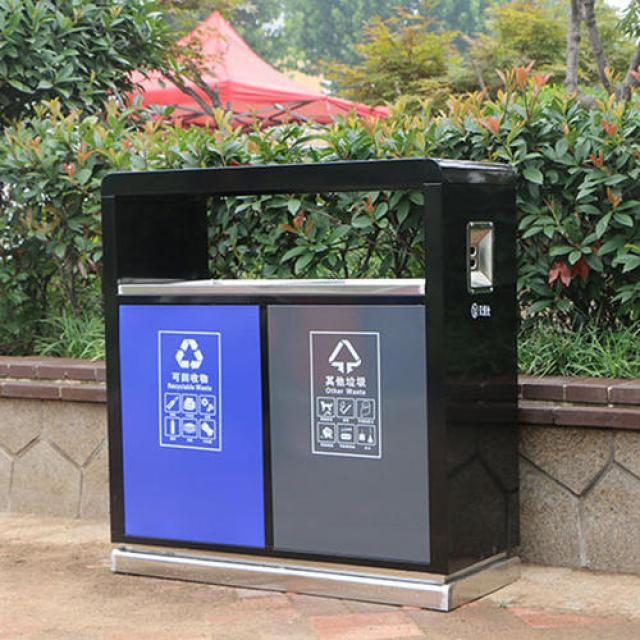garbage_bin: (100, 158, 514, 610)
